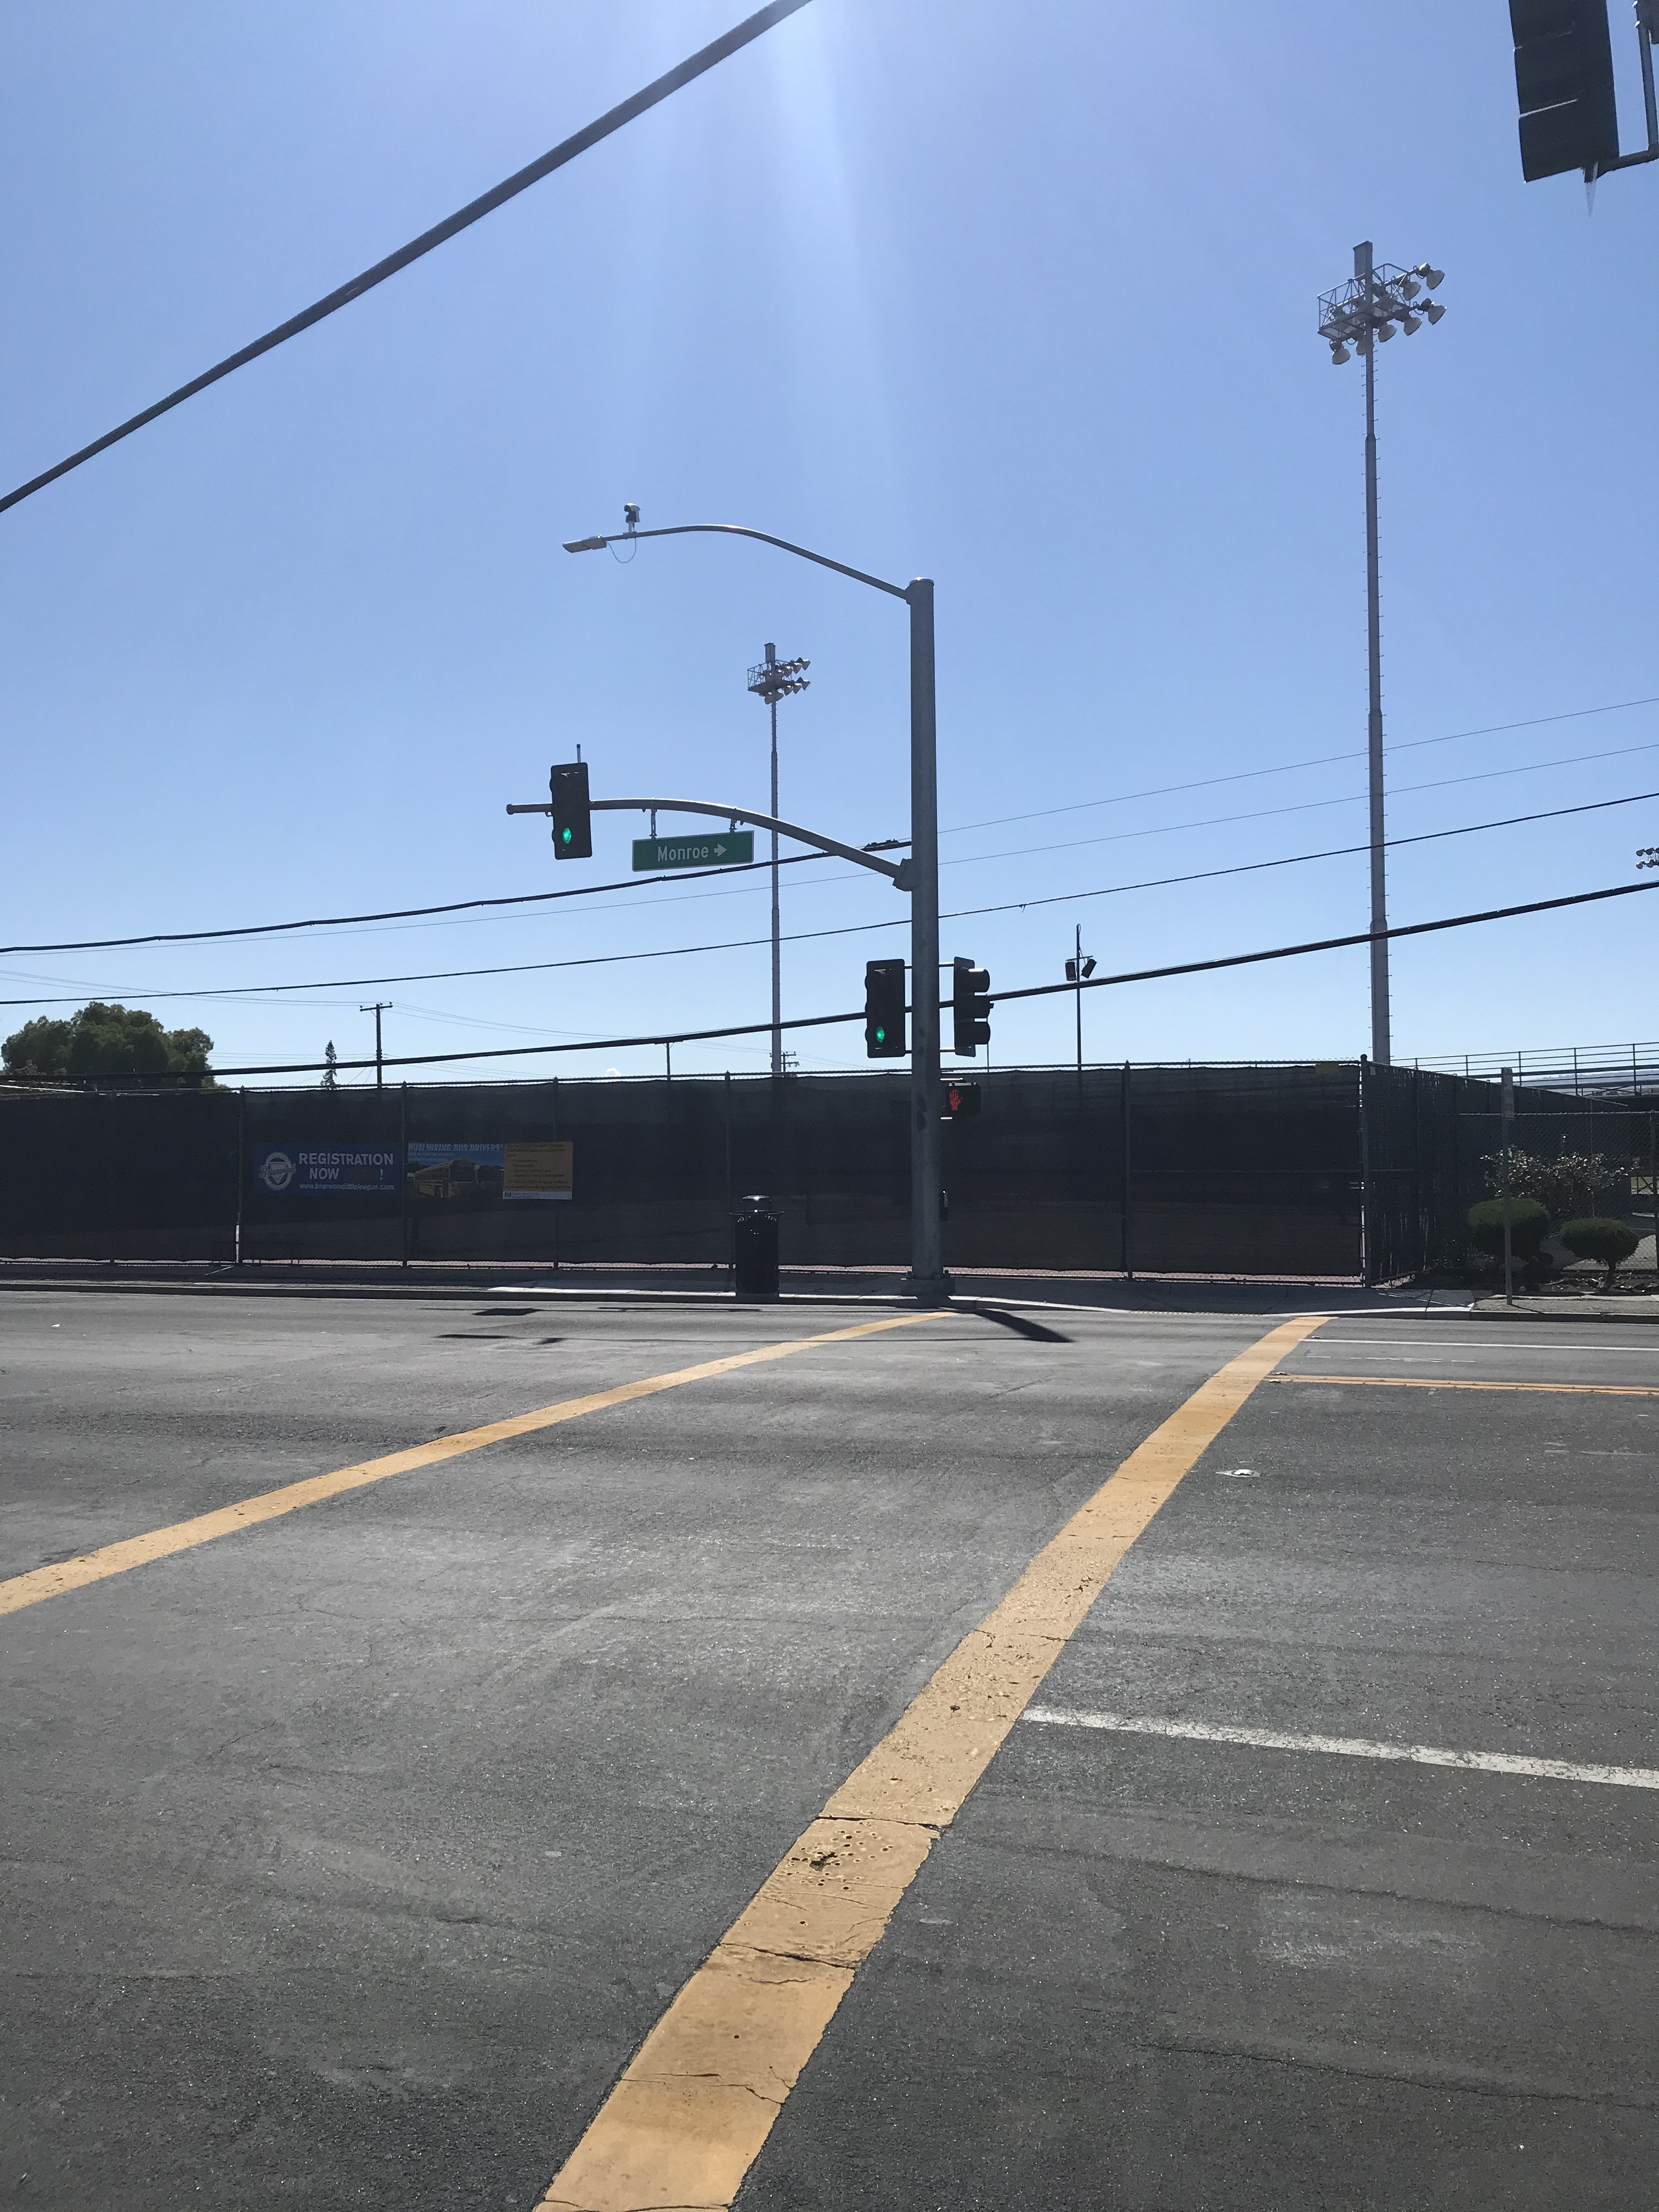green_light: (864, 965, 904, 1055), (551, 772, 589, 853)
